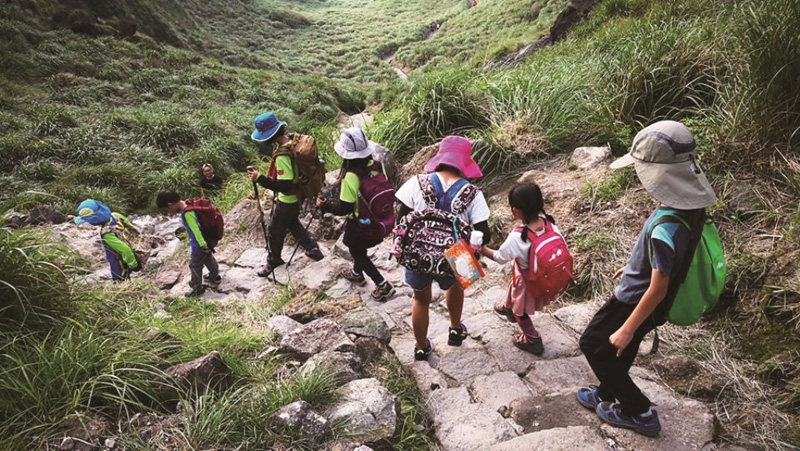people: (586, 121, 713, 430), (398, 138, 488, 353), (490, 182, 569, 354), (251, 113, 327, 273), (332, 128, 395, 302), (155, 186, 223, 291), (81, 202, 148, 280), (196, 159, 224, 196)
